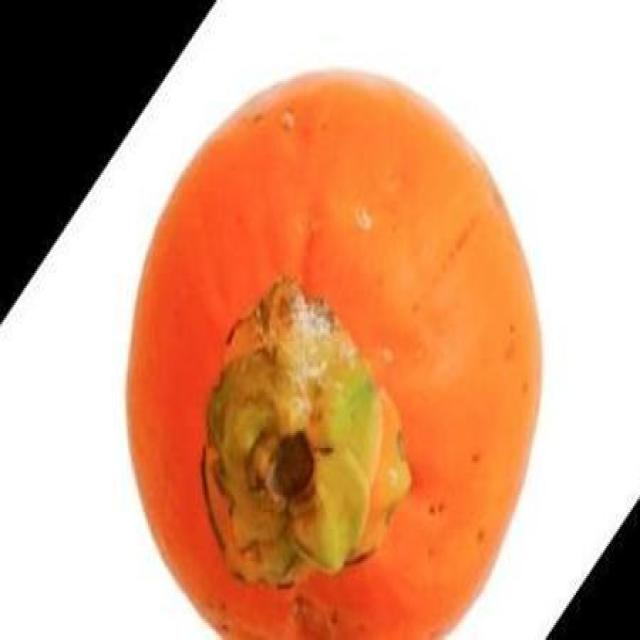good: (122, 68, 546, 638)
